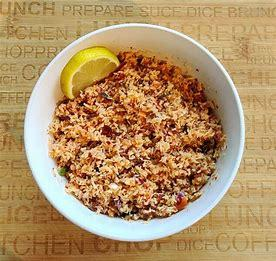Pol Sambol: (51, 41, 222, 225)
